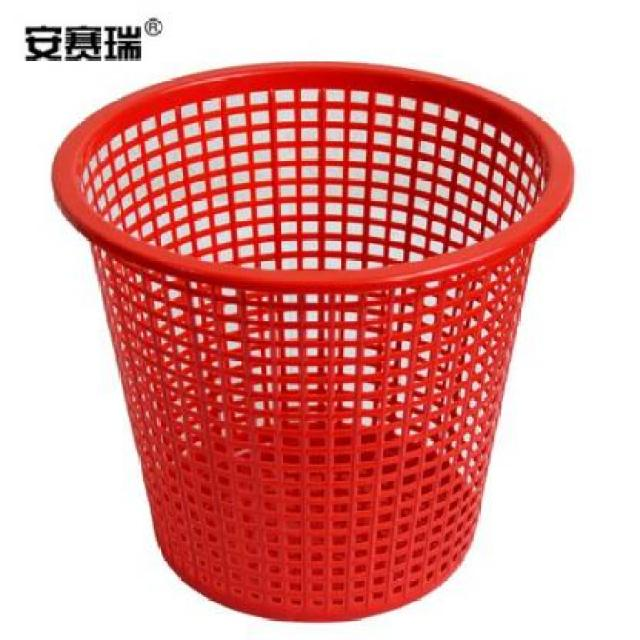dustbin: (43, 52, 581, 630)
